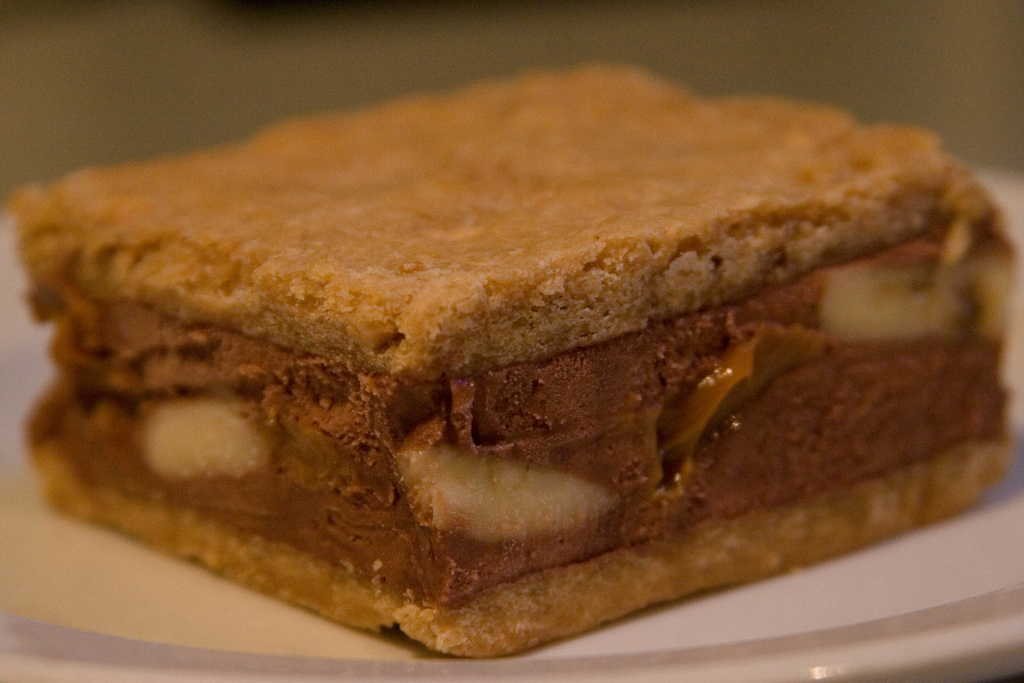sandwich: (3, 60, 1022, 659)
